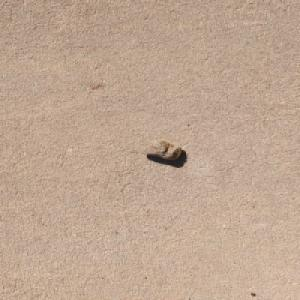Rock: (139, 140, 182, 160)
